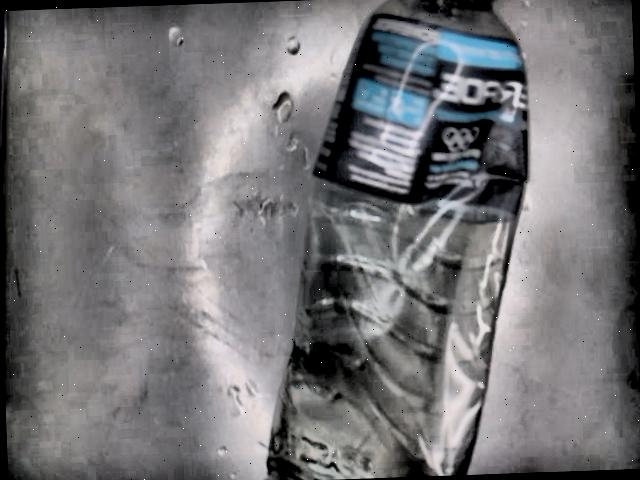Bottles: (264, 0, 534, 480)
